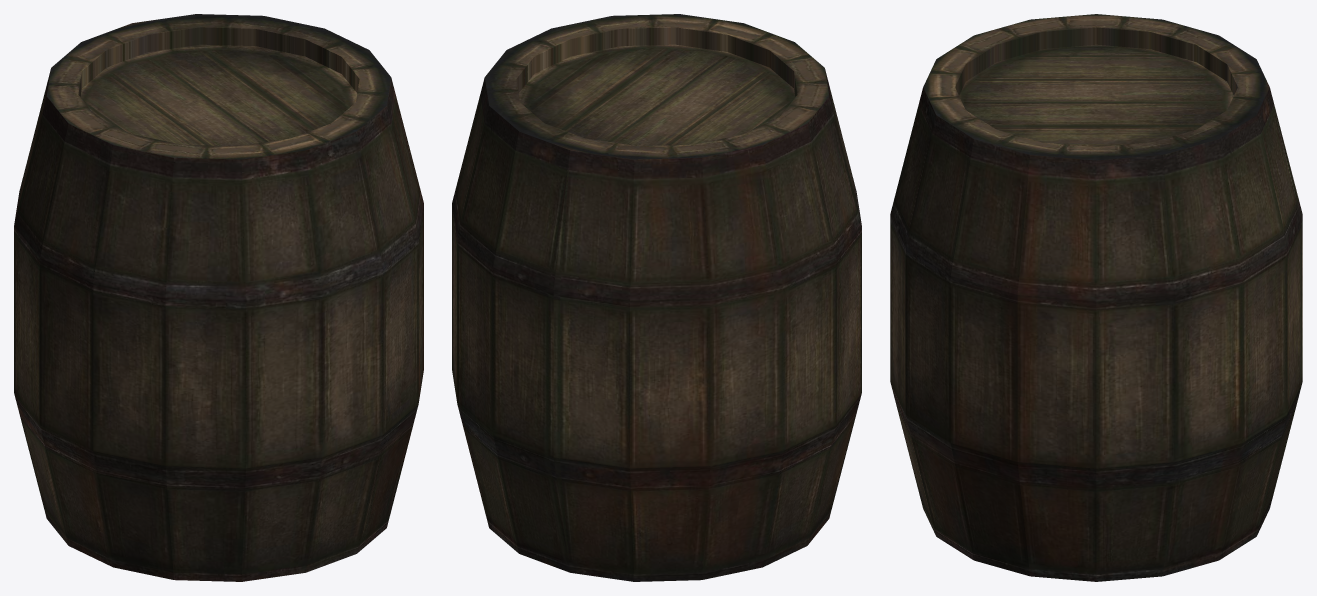
The model's file is Barril V1.fbx.
3 renders of one model, left to right at view 1: azimuth 30°, elevation 25°; view 2: azimuth 150°, elevation 25°; view 3: azimuth 270°, elevation 25°, orthographic.
Visible parts, largest first — view 1: Barril; view 2: Barril; view 3: Barril.
Boxes of the visible parts, x1,y1,x2,y2 form: Barril: [14, 14, 423, 581]; Barril: [452, 14, 861, 581]; Barril: [890, 14, 1302, 581].
Bounding box in the file's own units: 238 × 268 × 238.
1 material, 1 textured.
